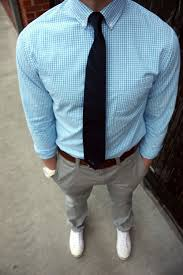F_belt: (51, 138, 154, 170)
F_tie: (80, 11, 118, 169)
